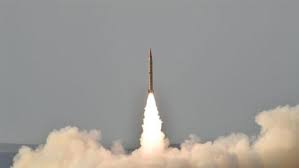ten_lua: (144, 45, 159, 96)
